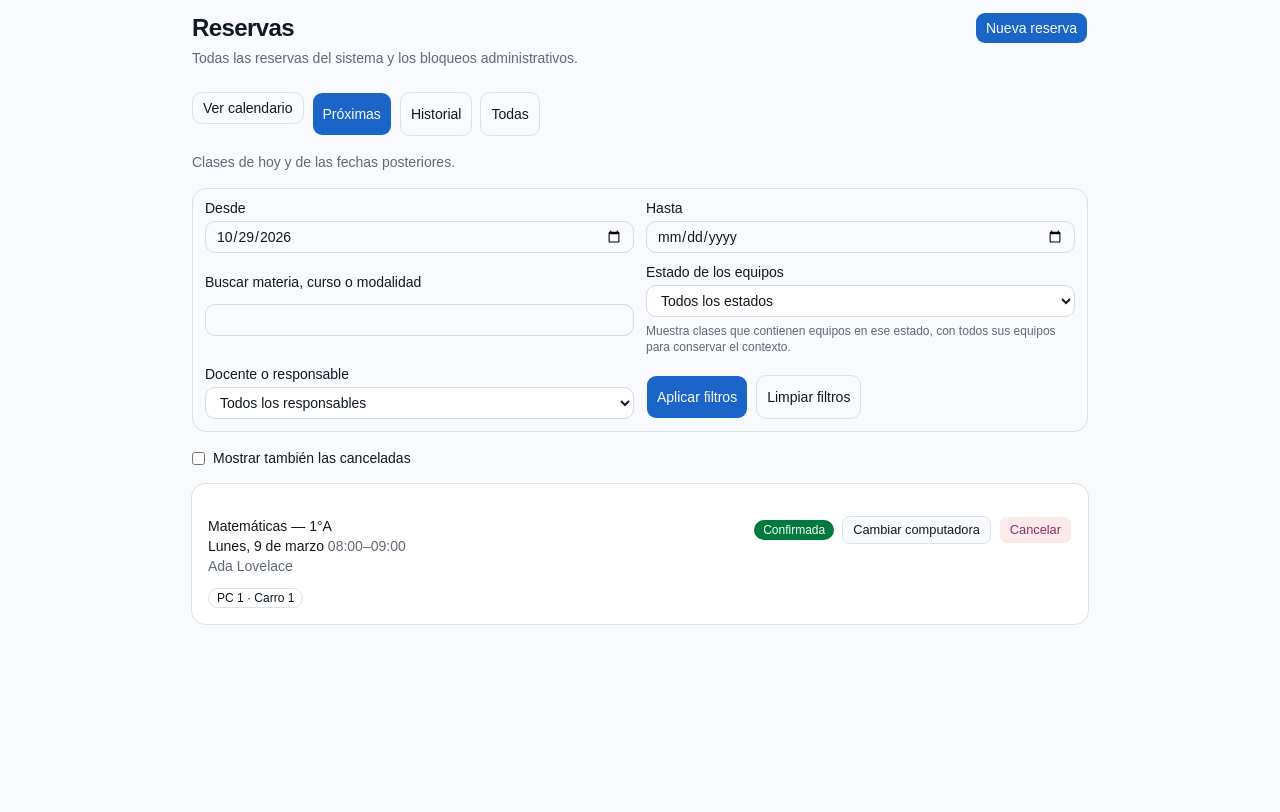
it: MisReservasPage › cancelación › un Admin no puede cancelar una reserva ajena sin motivo
The width and height of the screenshot is (1280, 812).
Click the button "Cancelar": {"x": 1035, "y": 530} [999,516,1072,544]
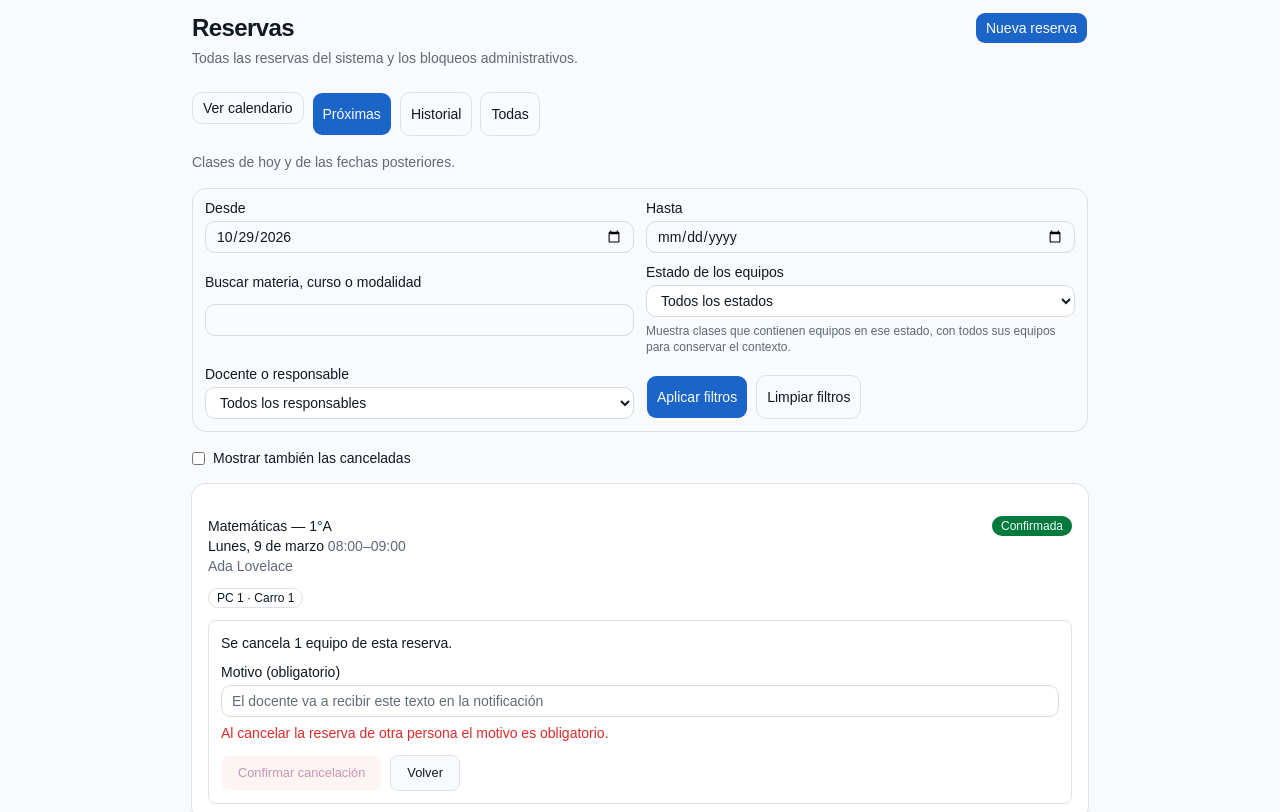
Expected: the button "Confirmar cancelación" is disabled, [221,755,382,791]
Expected: the text "el motivo es obligatorio" is shown, [221,725,608,741]
